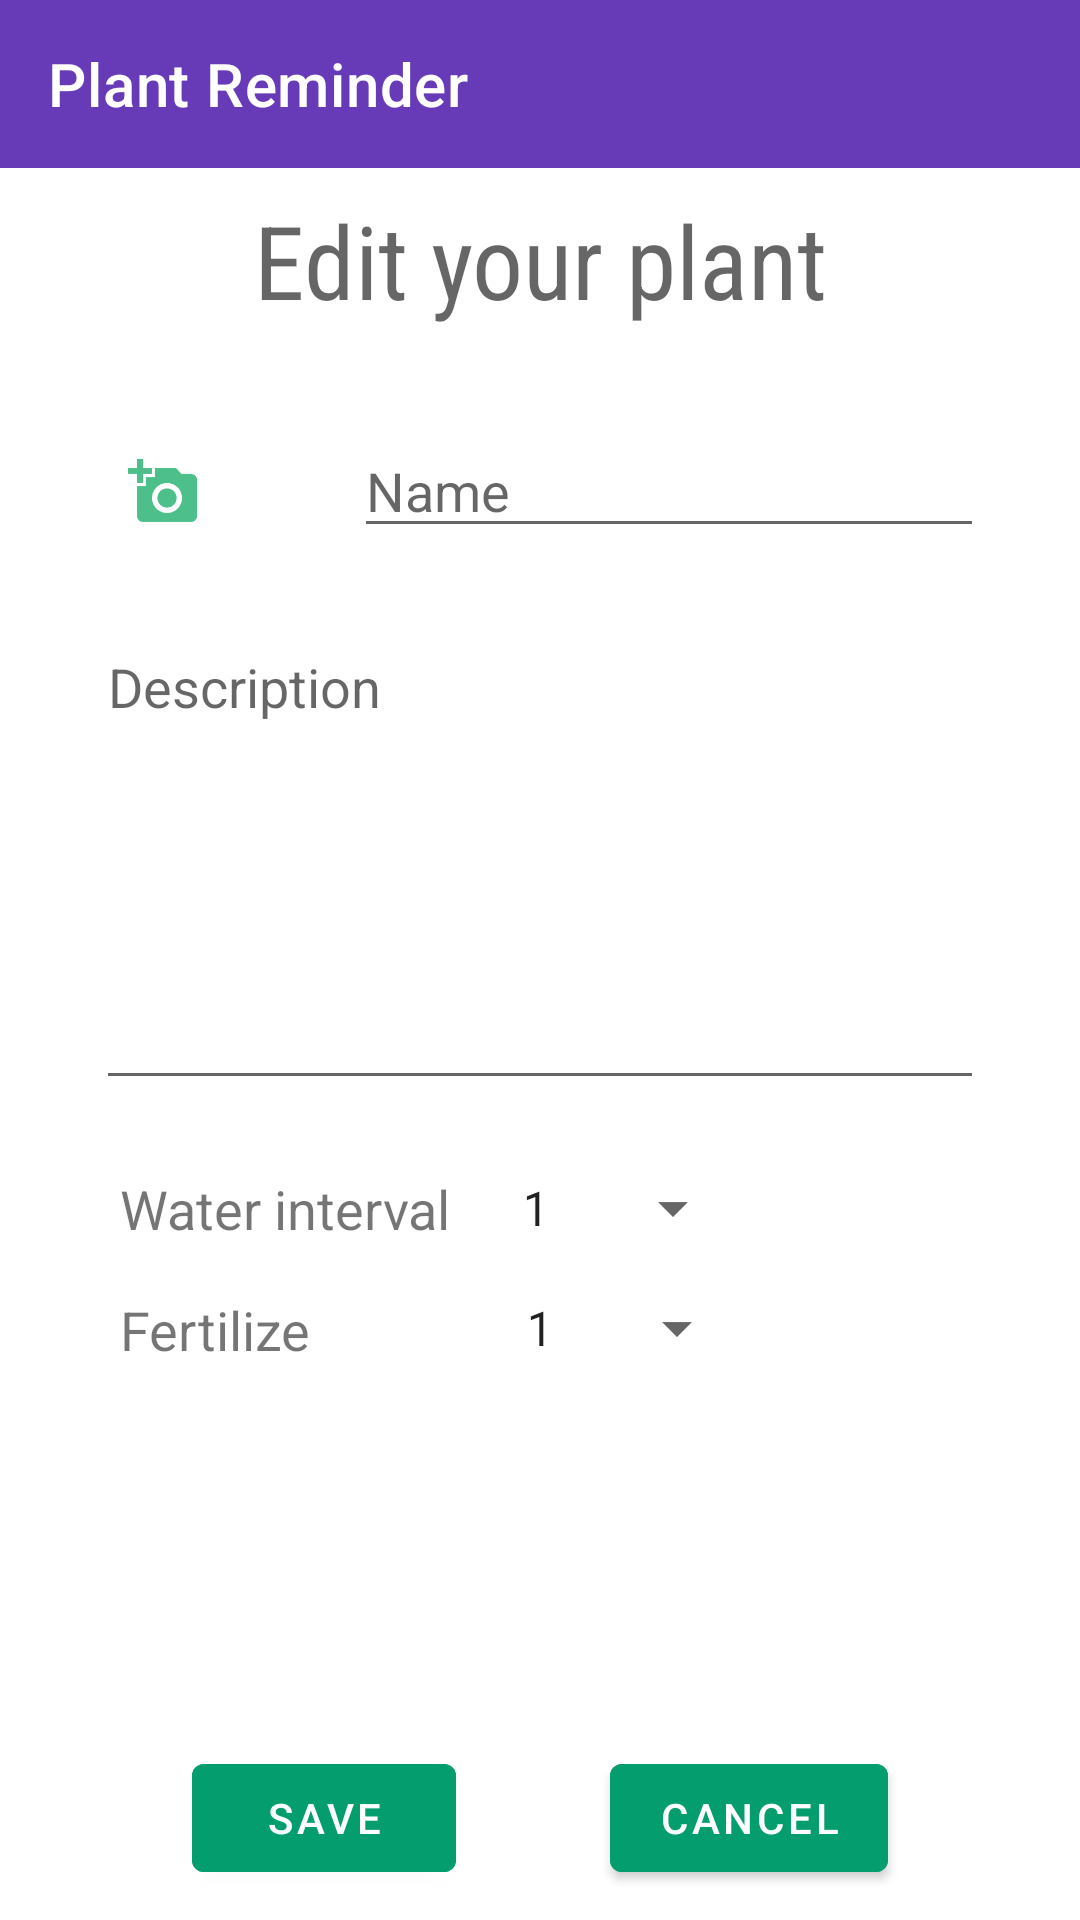

Icon click points for this 1080×1920 phone screenshot, format (x,y):
photo: (162,490)
